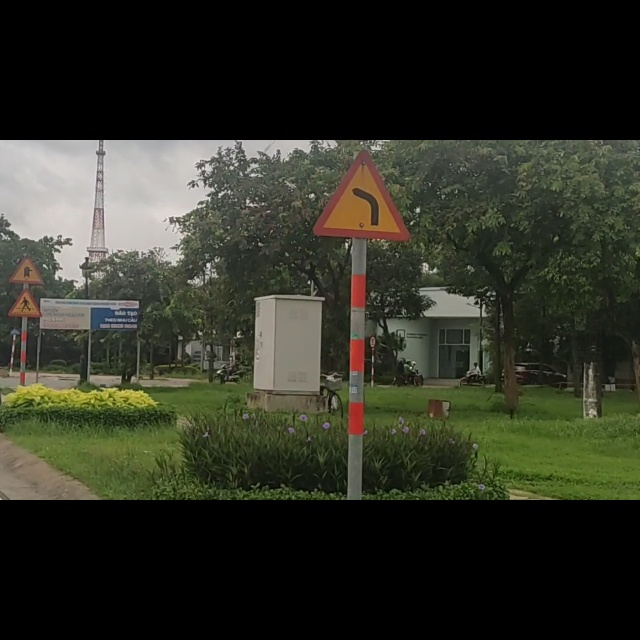bien_nguy_hiem: (312, 19, 413, 183), (6, 261, 45, 318), (9, 204, 47, 260)
